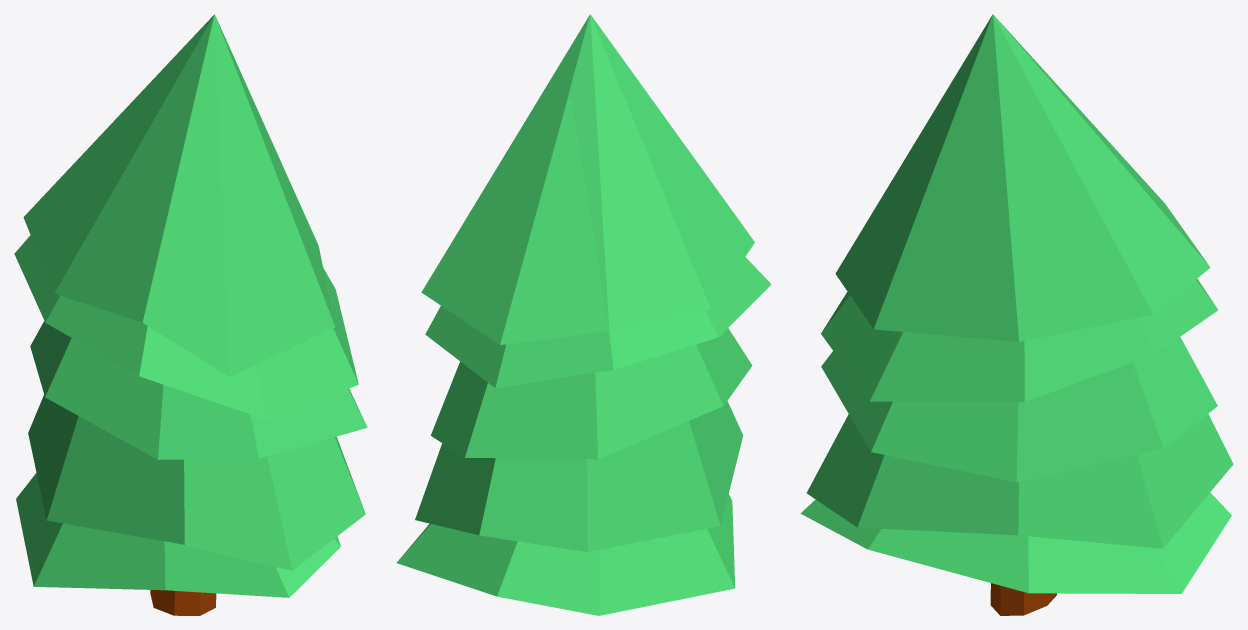
Rendered from agac1.fbx.
3 renders of one model, left to right at view 1: azimuth 30°, elevation 25°; view 2: azimuth 150°, elevation 25°; view 3: azimuth 270°, elevation 25°, orthographic. The views are drawn at different scales.
Visible parts, largest first — view 1: ağaç; view 2: ağaç; view 3: ağaç.
Part boxes in pixels (left/top/right/bottom): ağaç: left=14, top=14, right=367, bottom=615; ağaç: left=397, top=14, right=771, bottom=615; ağaç: left=800, top=14, right=1233, bottom=615.
Bounding box in the file's own units: 2.93 × 5.54 × 3.63.
